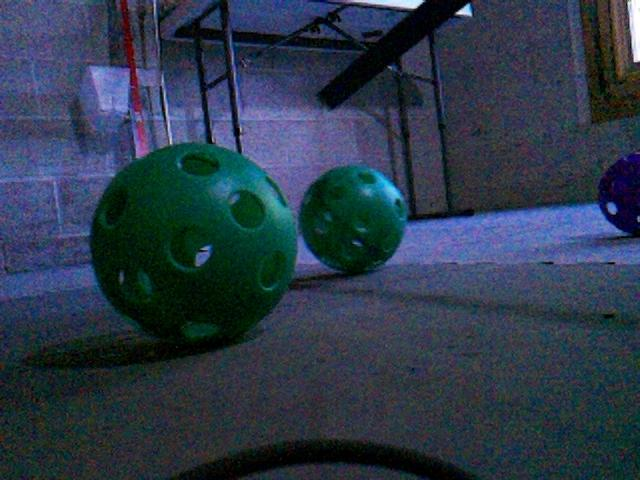Green: (86, 144, 295, 346), (296, 165, 409, 275)
Purple: (597, 153, 639, 236)
